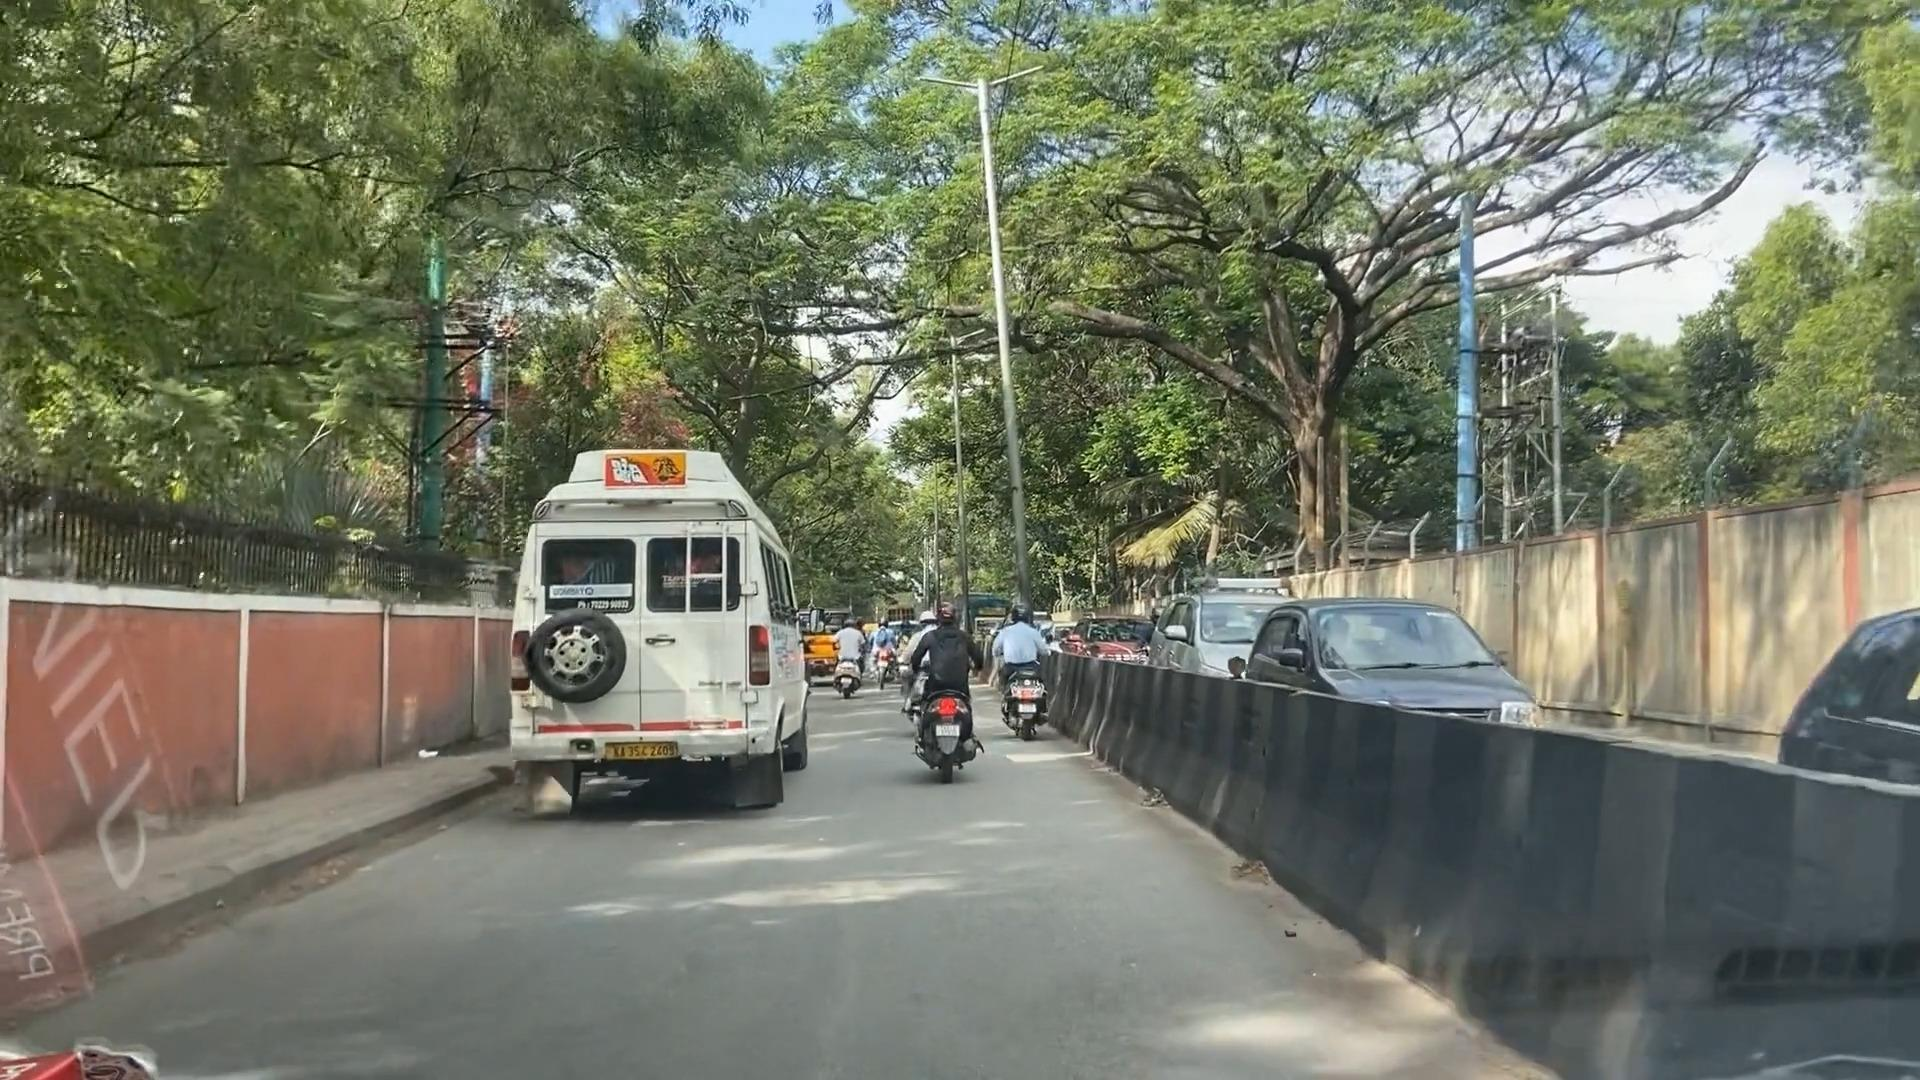LMV: (920, 613, 977, 774), (1000, 607, 1056, 735)
